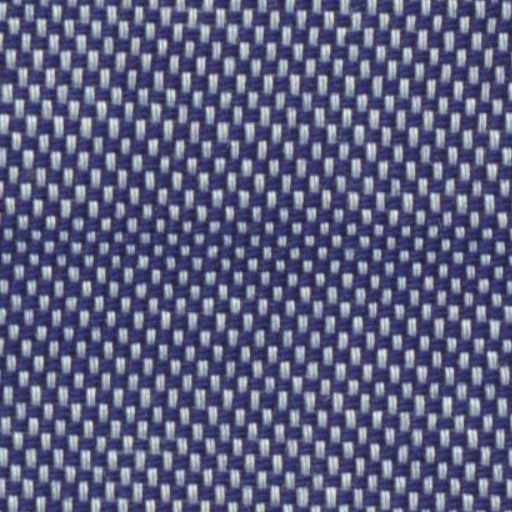TuoSha: (8, 179, 496, 326)
